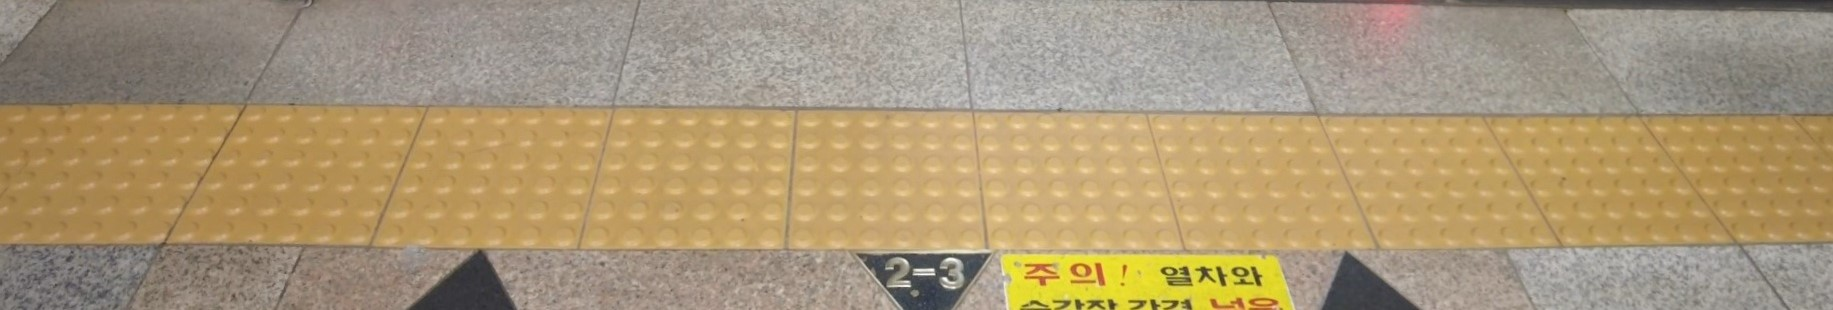warningBlock: (1142, 124, 1367, 268), (401, 97, 617, 244), (966, 113, 1201, 248), (1333, 105, 1543, 253), (8, 106, 214, 255), (213, 89, 401, 249), (786, 118, 978, 252), (607, 98, 794, 235), (1495, 118, 1711, 228), (1678, 113, 1833, 266)
